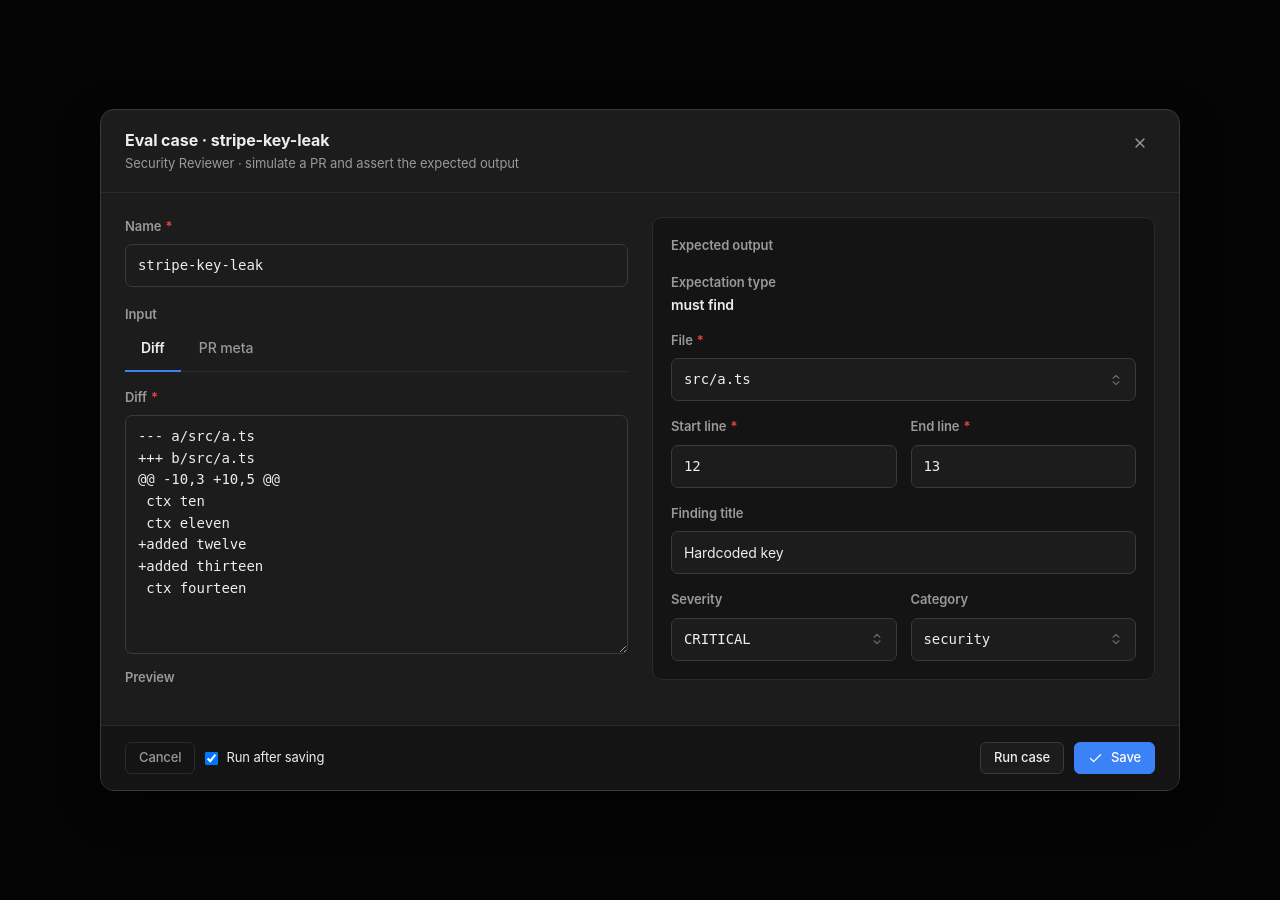
Test: CaseEditorDialog — Run case › shows the result in a live region while the fields stay editable, and saves nothing
The image size is (1280, 900).
Click the button "Run case" at point(1022, 758), box [980,742,1064,774]
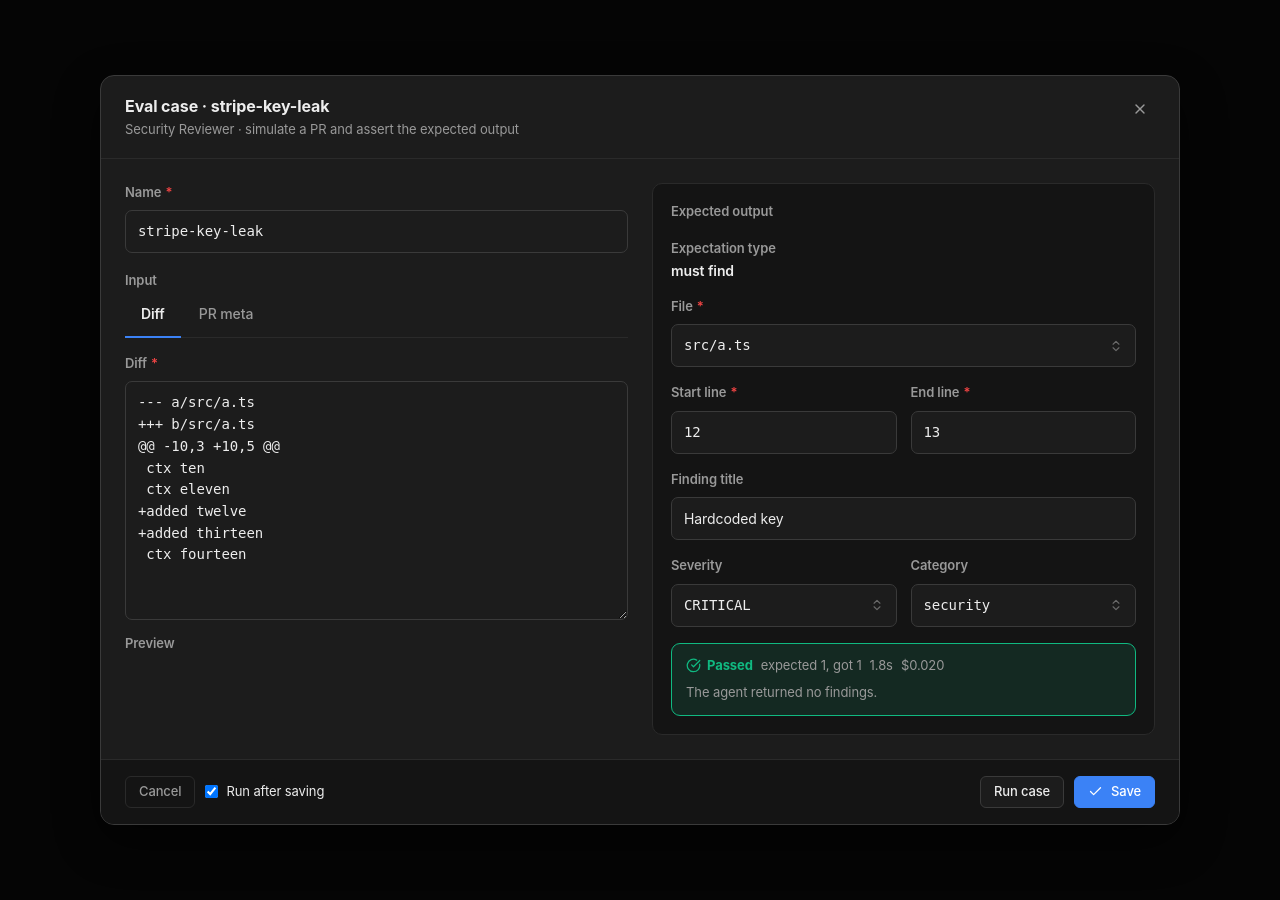
Expected: the message named "Result of the run" shows "Passed", [707,657,753,673]
Expected: the message named "Result of the run" shows "expected 1, got 1", [761,657,862,673]
Expected: the message named "Result of the run" shows "1.8s", [870,657,893,673]
